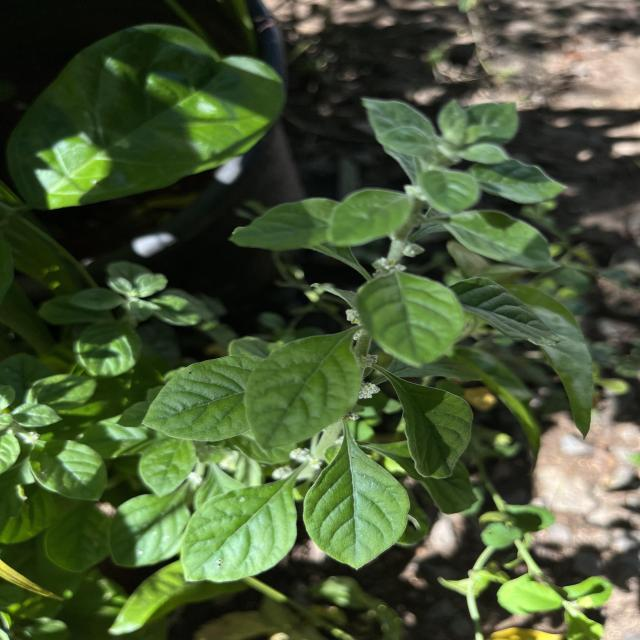Aerva lanata: (300, 428, 412, 572), (140, 353, 267, 444), (388, 374, 476, 482)
